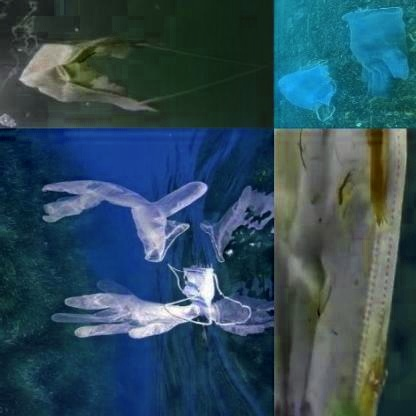Mask: (274, 129, 412, 415), (0, 26, 274, 116), (162, 265, 229, 330), (276, 58, 339, 122)
glove: (40, 176, 207, 264), (46, 287, 198, 342), (346, 5, 410, 100)
